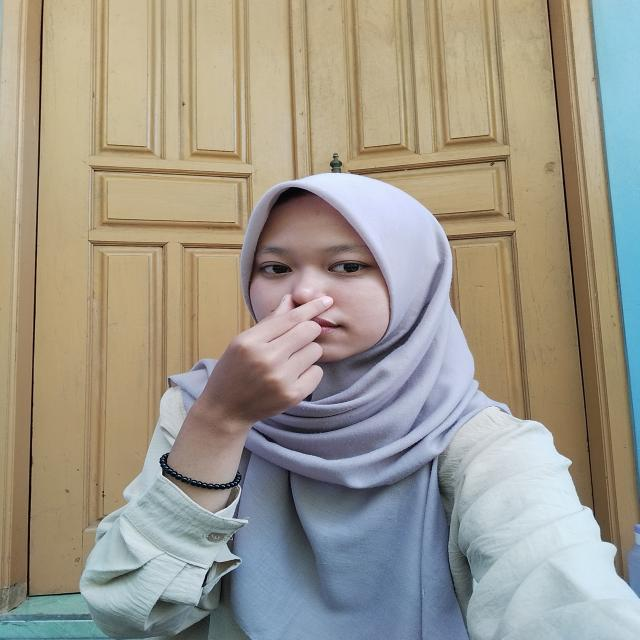bau: (196, 285, 350, 418)
